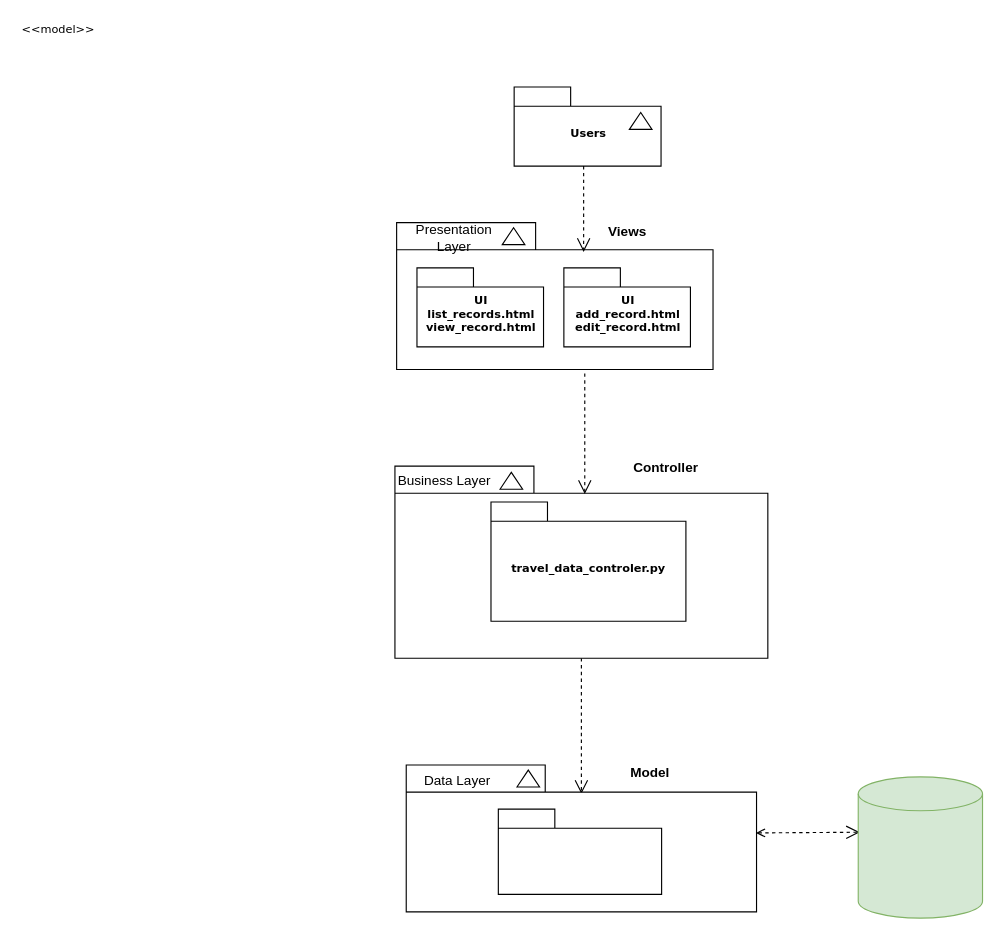
The diagram is 1002 pixels wide and 938 high, and some of its shapes have lost their labels. The centre of each missing label's shape, as x and y in pixels:
MongoDB: [920,847]
travel_data_model.py: [579,851]
